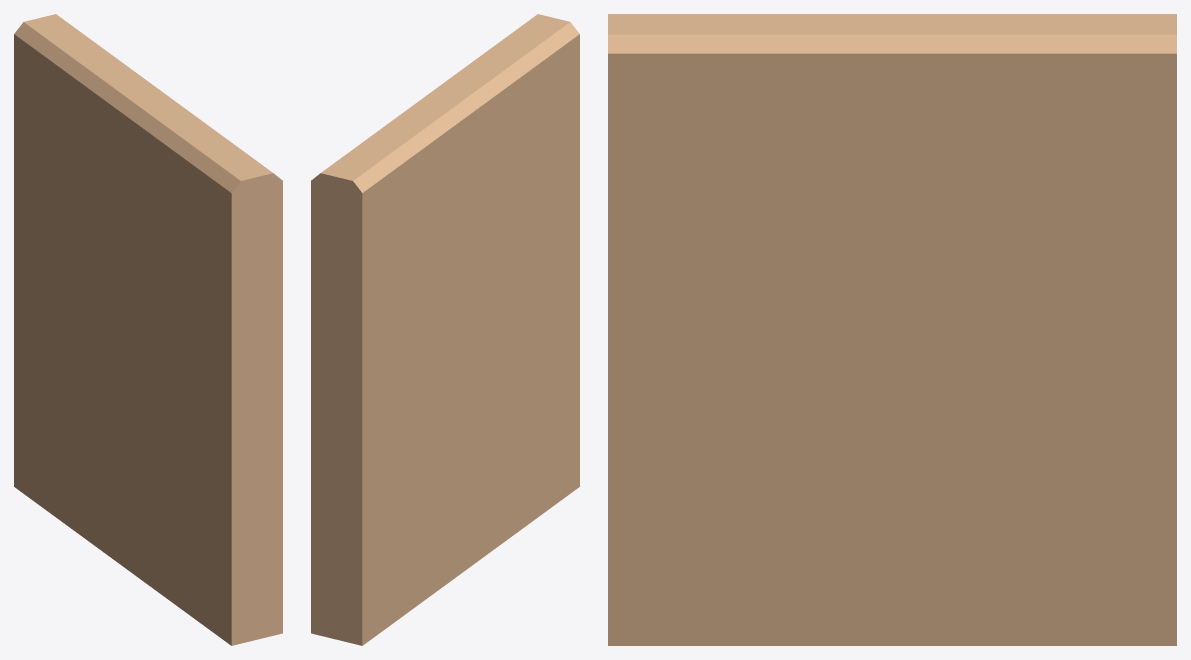
The model's file is Wall A.fbx.
The picture shows the model from 3 angles, left to right: view 1: azimuth 30°, elevation 25°; view 2: azimuth 150°, elevation 25°; view 3: azimuth 270°, elevation 25°; orthographic projection. The views are drawn at different scales.
Parts seen in each view (by area): view 1: Wall A; view 2: Wall A; view 3: Wall A.
Part boxes in pixels (x1,y1,x2,y2): Wall A: (14, 14, 282, 645); Wall A: (311, 14, 579, 645); Wall A: (608, 14, 1176, 645).
Bounding box in the file's own units: 20.44 × 176 × 150.
